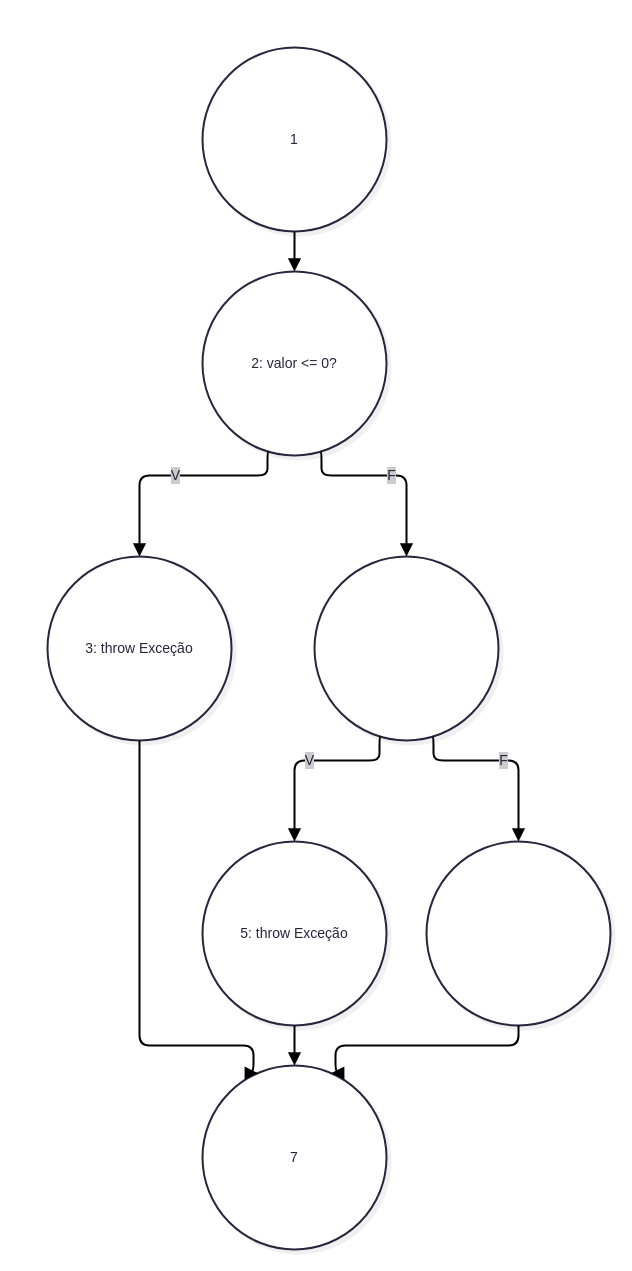
This 632x1271 diagram has some shape labels left out. Here are the shapes that lost their labels. From the top down, the centre of each, then its label:
At [408,650]: "4: valor > saldo?".
At [520,935]: "6: saldo -= valor".
